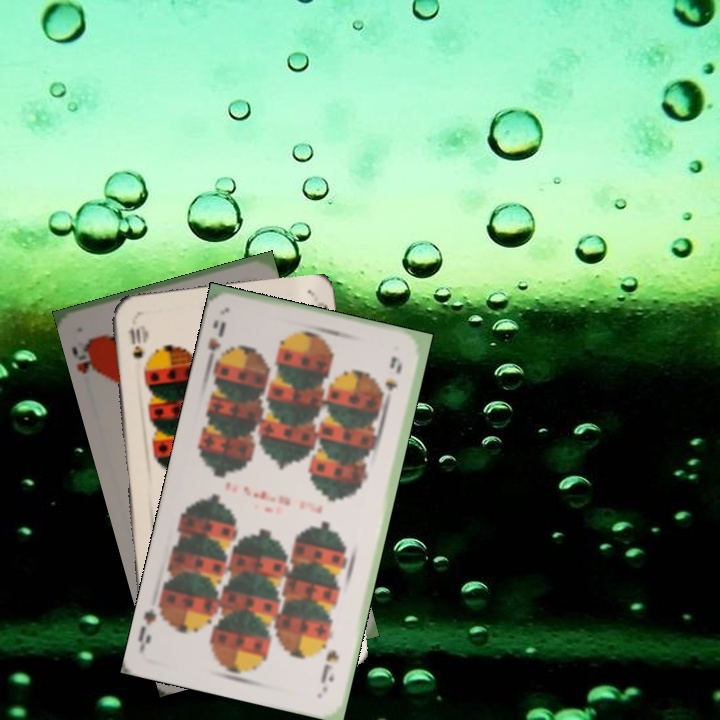HO: (69, 335, 105, 378)
S10: (125, 324, 145, 361)
S9: (202, 317, 228, 370), (322, 646, 342, 685)
